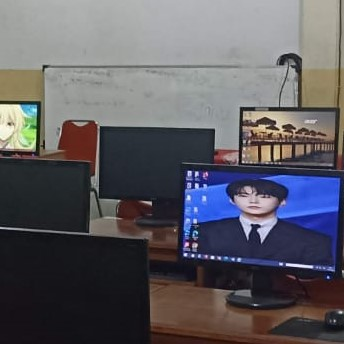monitor: (177, 162, 344, 284), (97, 126, 215, 223), (0, 158, 91, 234), (238, 106, 340, 170), (0, 101, 41, 156)
